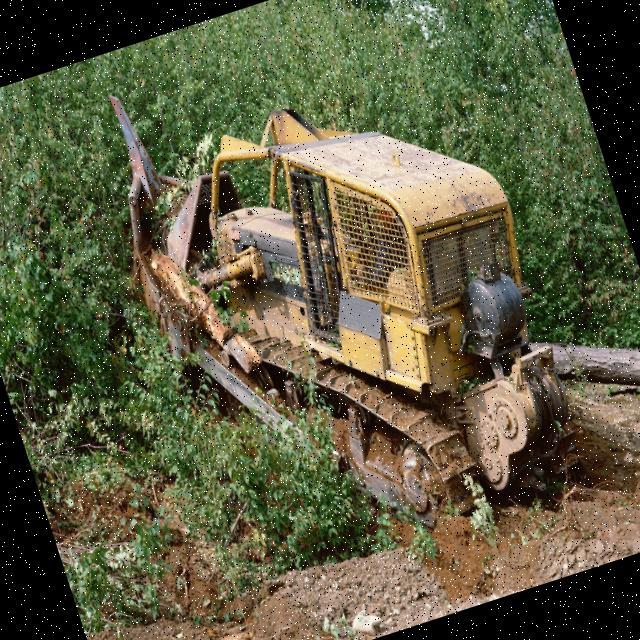Bulldozer: (88, 13, 624, 604)
